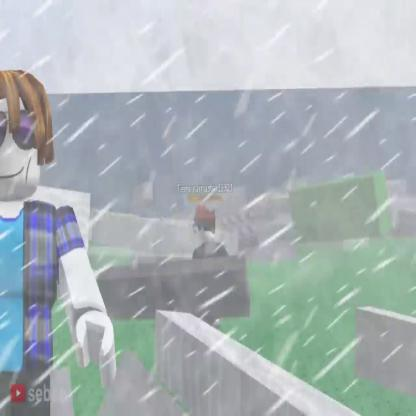Roblox-Avatar: (1, 69, 118, 416), (193, 204, 230, 260)
